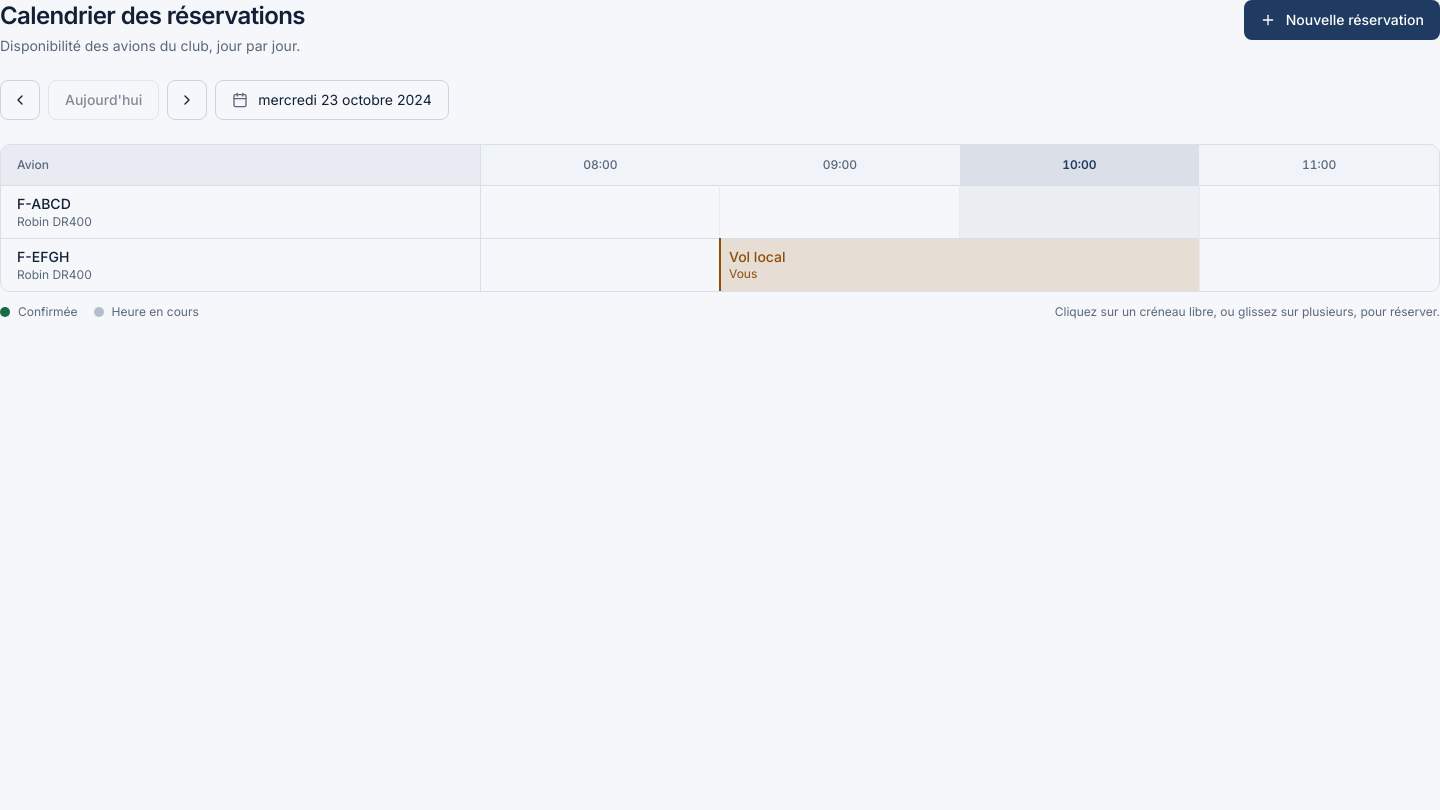
ReservationCalendar › ne doit plus proposer ni modification ni suppression une fois la réservation commencée
Expected: the table is shown, [1,145,1439,290]
Click the text "Vol local" at (757, 257), box [729,248,786,265]
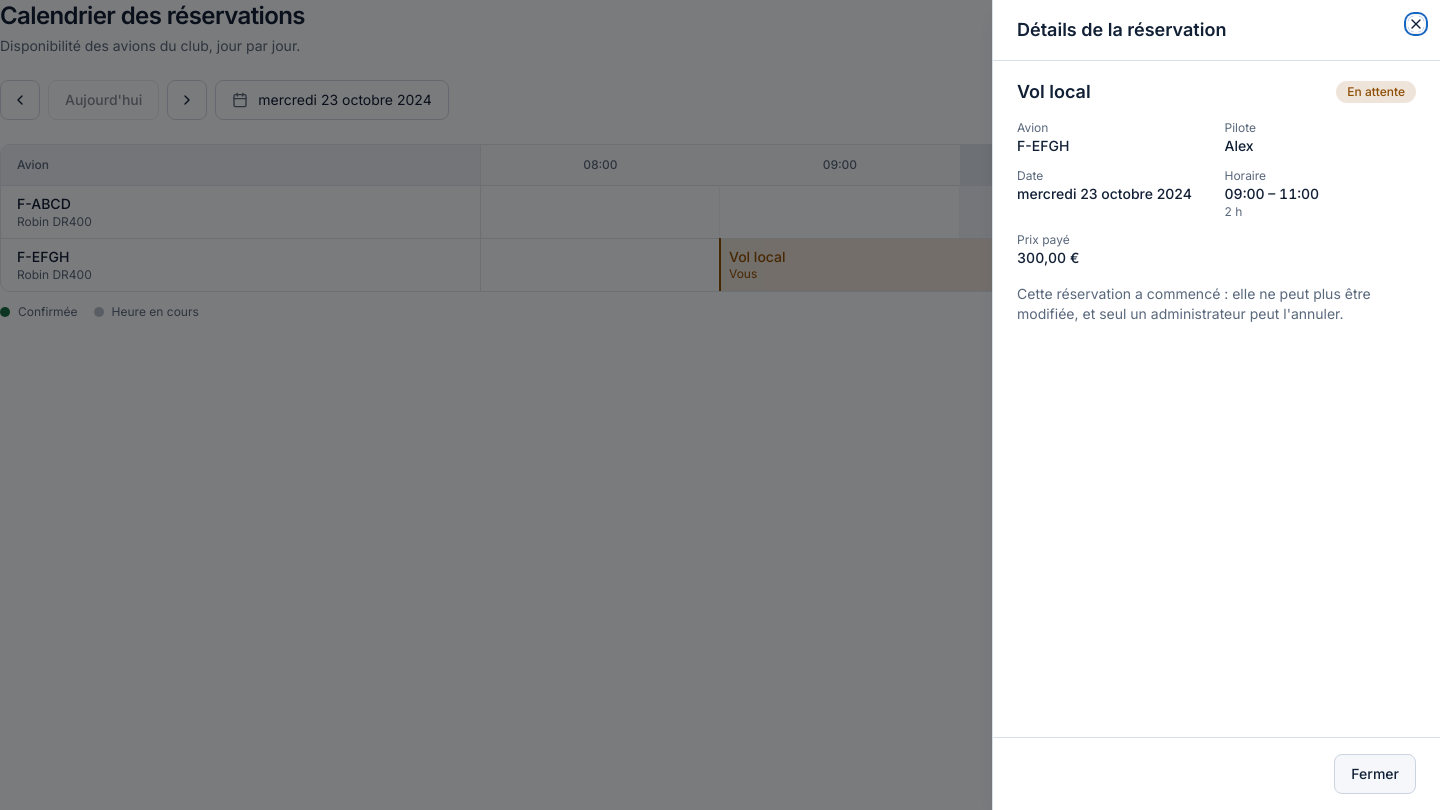
Expected: the text "seul un administrateur peut l'annuler" is shown, [1017,284,1371,322]
